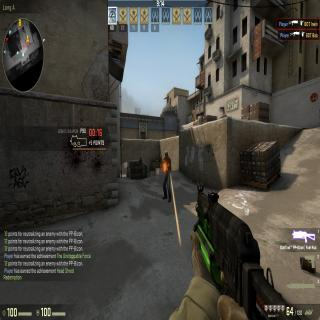T-Body: (161, 150, 172, 202), (138, 157, 143, 172)
T-Head: (164, 150, 168, 160)
